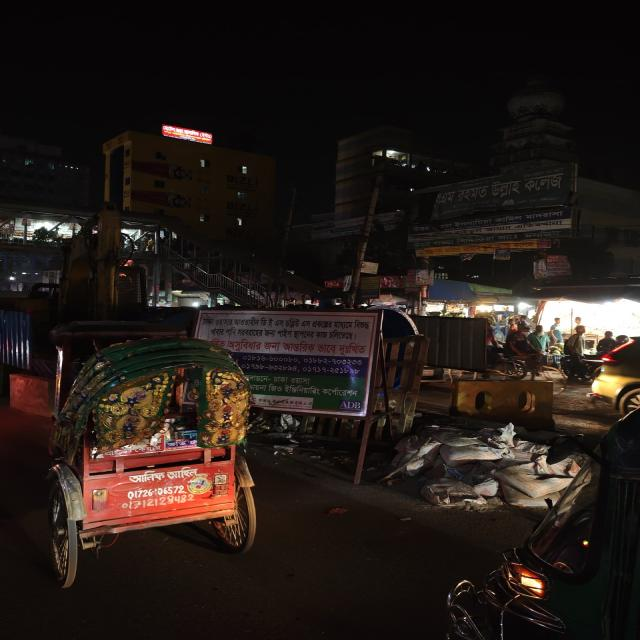pedestrian: (564, 317, 588, 385)
rickshaw: (47, 343, 269, 584)
